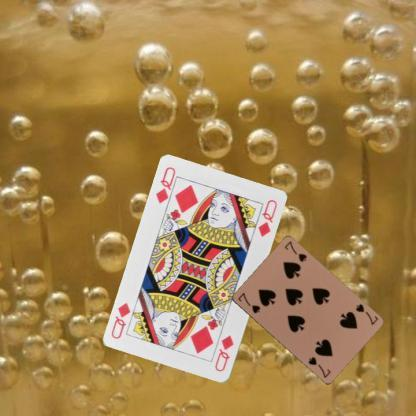7s: (352, 301, 379, 326), (235, 290, 261, 315)
Qd: (153, 164, 179, 210), (212, 332, 235, 374)
